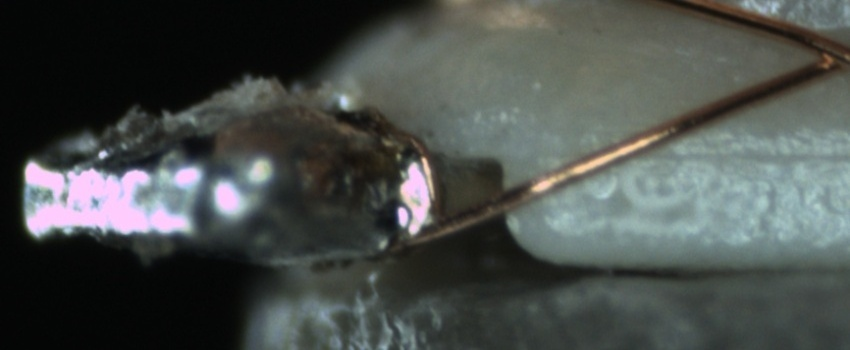CL: (792, 30, 850, 83)
DL: (606, 122, 847, 186)
TE: (377, 108, 439, 229)
